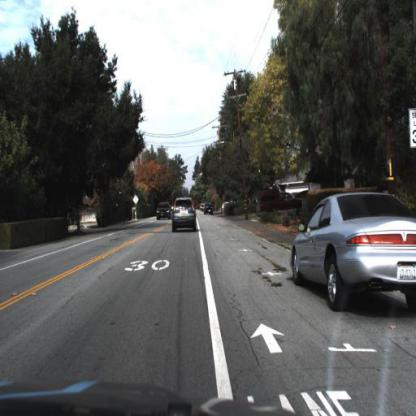car: (290, 192, 416, 315), (253, 184, 306, 222), (169, 195, 199, 236), (155, 199, 174, 226), (205, 200, 219, 218)
